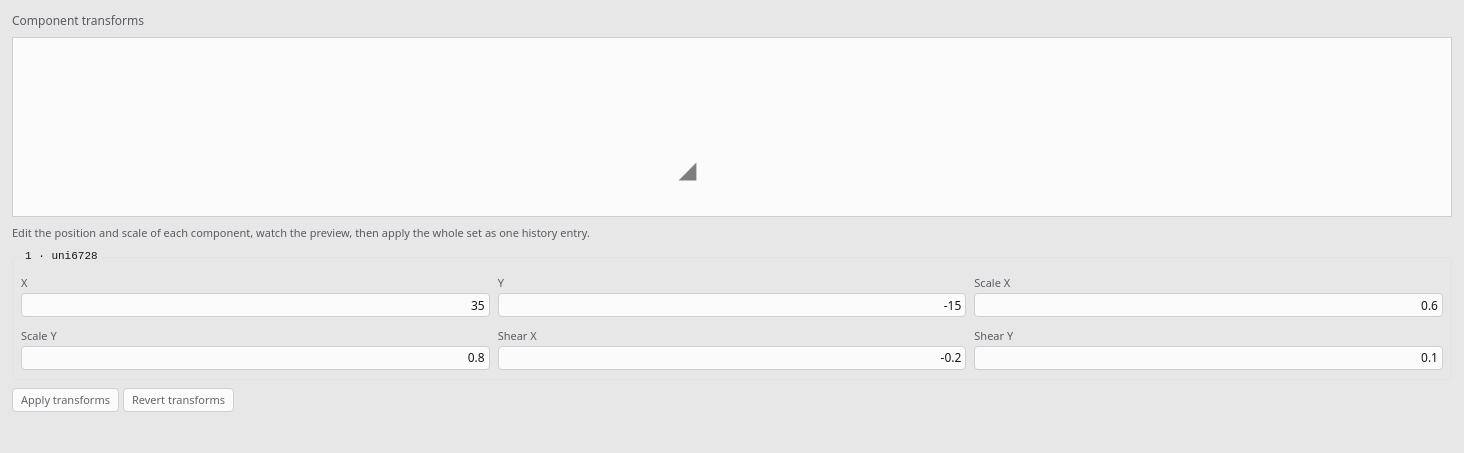
Test: CJK component transform grid › refuses a collapsed scale with a reason instead of erasing the ink
The width and height of the screenshot is (1464, 453).
Replace the text in the field named "Shear Y for component 1 (uni6728)" with "0". click: [1209, 358]
box: [974, 346, 1443, 370]
Then press Enter
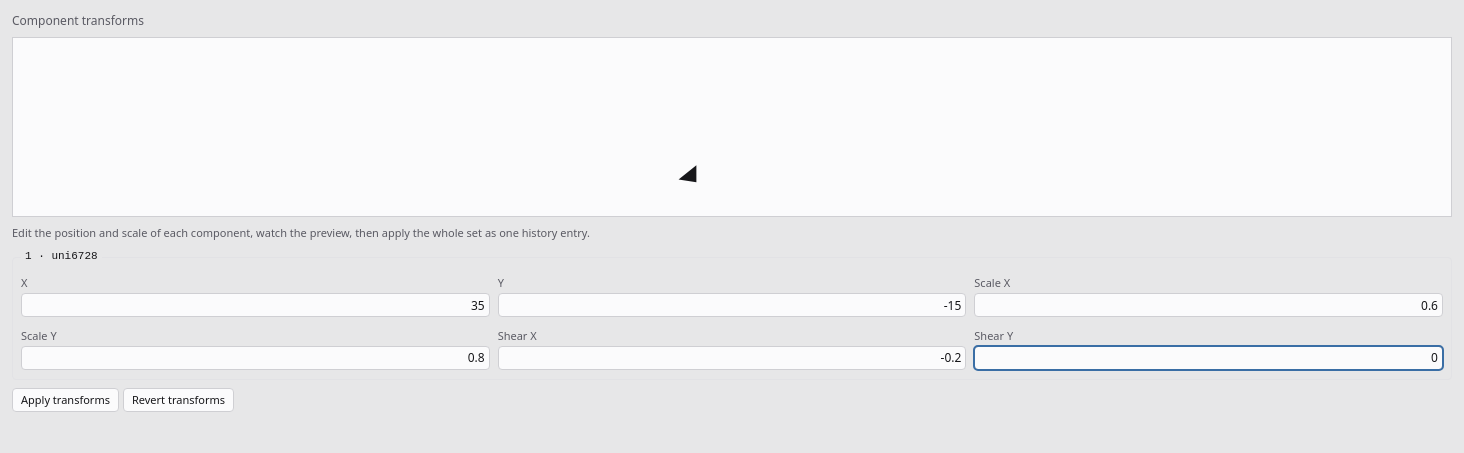
Replace the text in the field named "Scale X for component 1 (uni6728)" with "0". click: [1209, 305]
box: [974, 293, 1443, 317]
Then press Enter
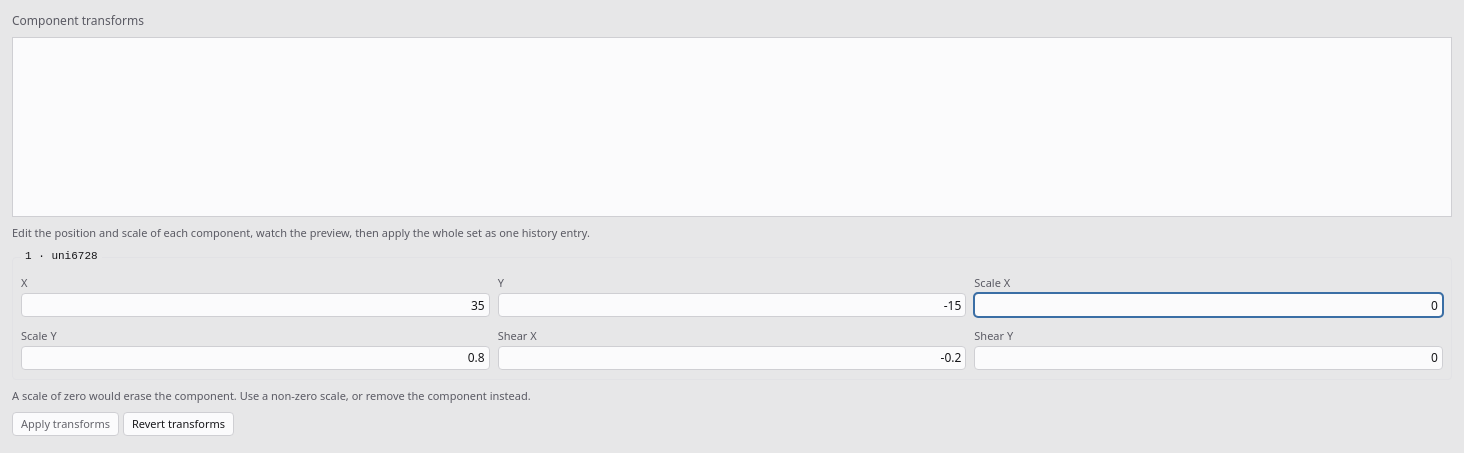
Expected: the message shows "A scale of zero would erase the component", [12, 388, 531, 403]
Expected: the button "Apply transforms" is disabled, [12, 412, 119, 436]
